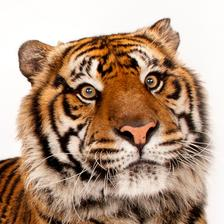tiger: (1, 16, 224, 224)
